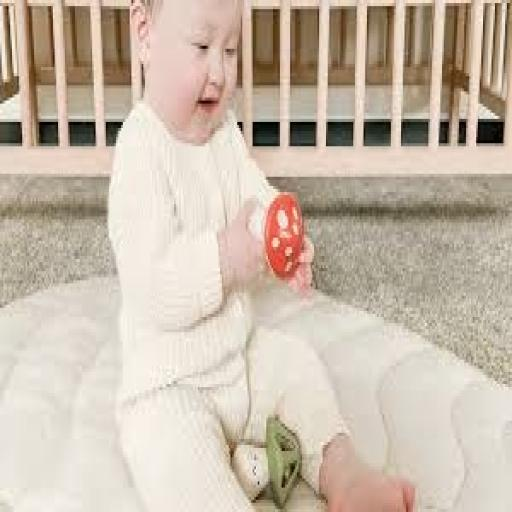baby: (108, 0, 414, 511)
crib: (238, 0, 511, 176)
